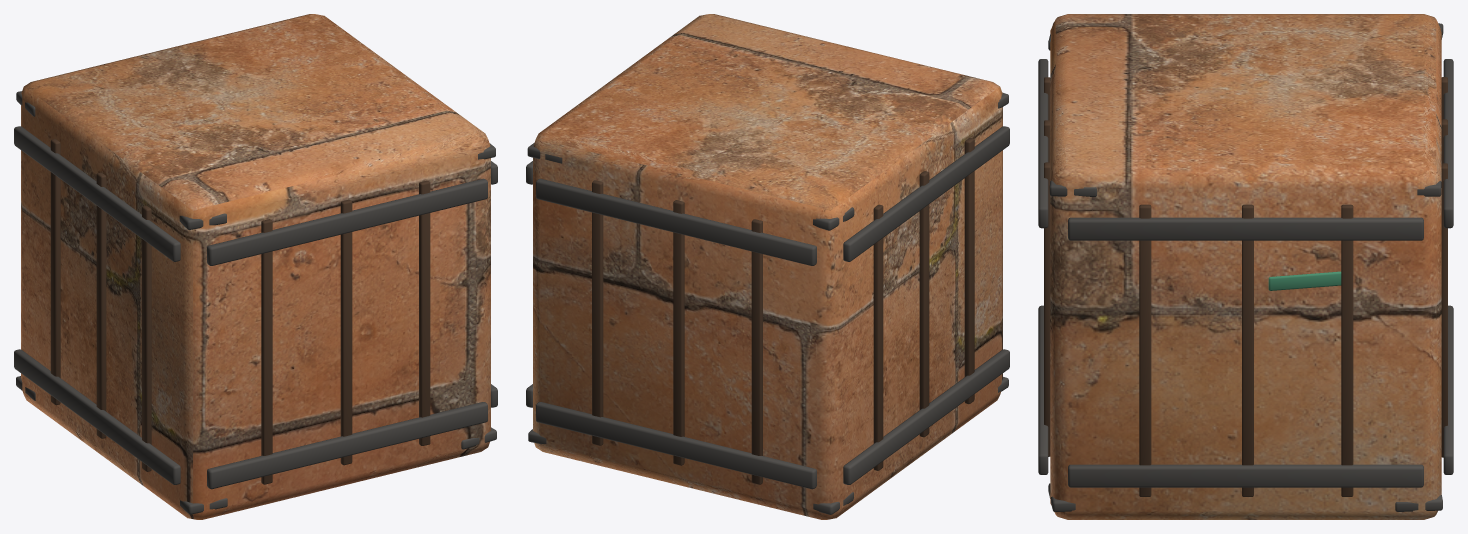
Rendered from w1_block_b.glb.
3 views of the same model, side by side, from view 1: azimuth 30°, elevation 25°; view 2: azimuth 150°, elevation 25°; view 3: azimuth 270°, elevation 25° (orthographic). The views are drawn at different scales.
Parts seen in each view (by area): view 1: w1_block_b; view 2: w1_block_b; view 3: w1_block_b.
Part boxes in pixels (x1,y1,x2,y2): w1_block_b: [14, 14, 497, 519]; w1_block_b: [526, 14, 1009, 519]; w1_block_b: [1038, 14, 1453, 519].
Size of the model in its own units: 1.91 by 1.78 by 1.89.
Materials: 4 (1 with a texture image).
